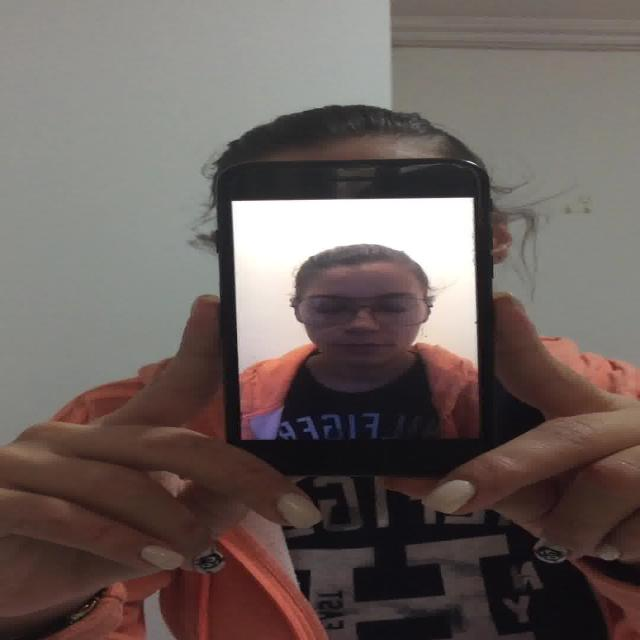device: (205, 150, 508, 488)
